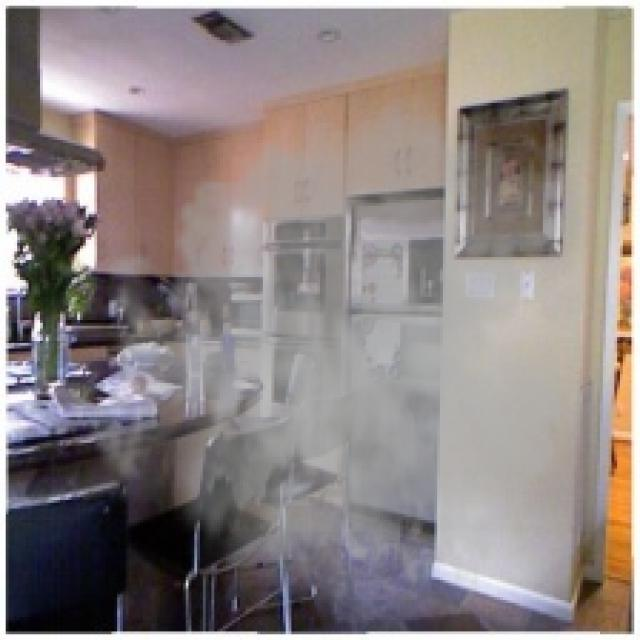smoke: (72, 77, 597, 629)
